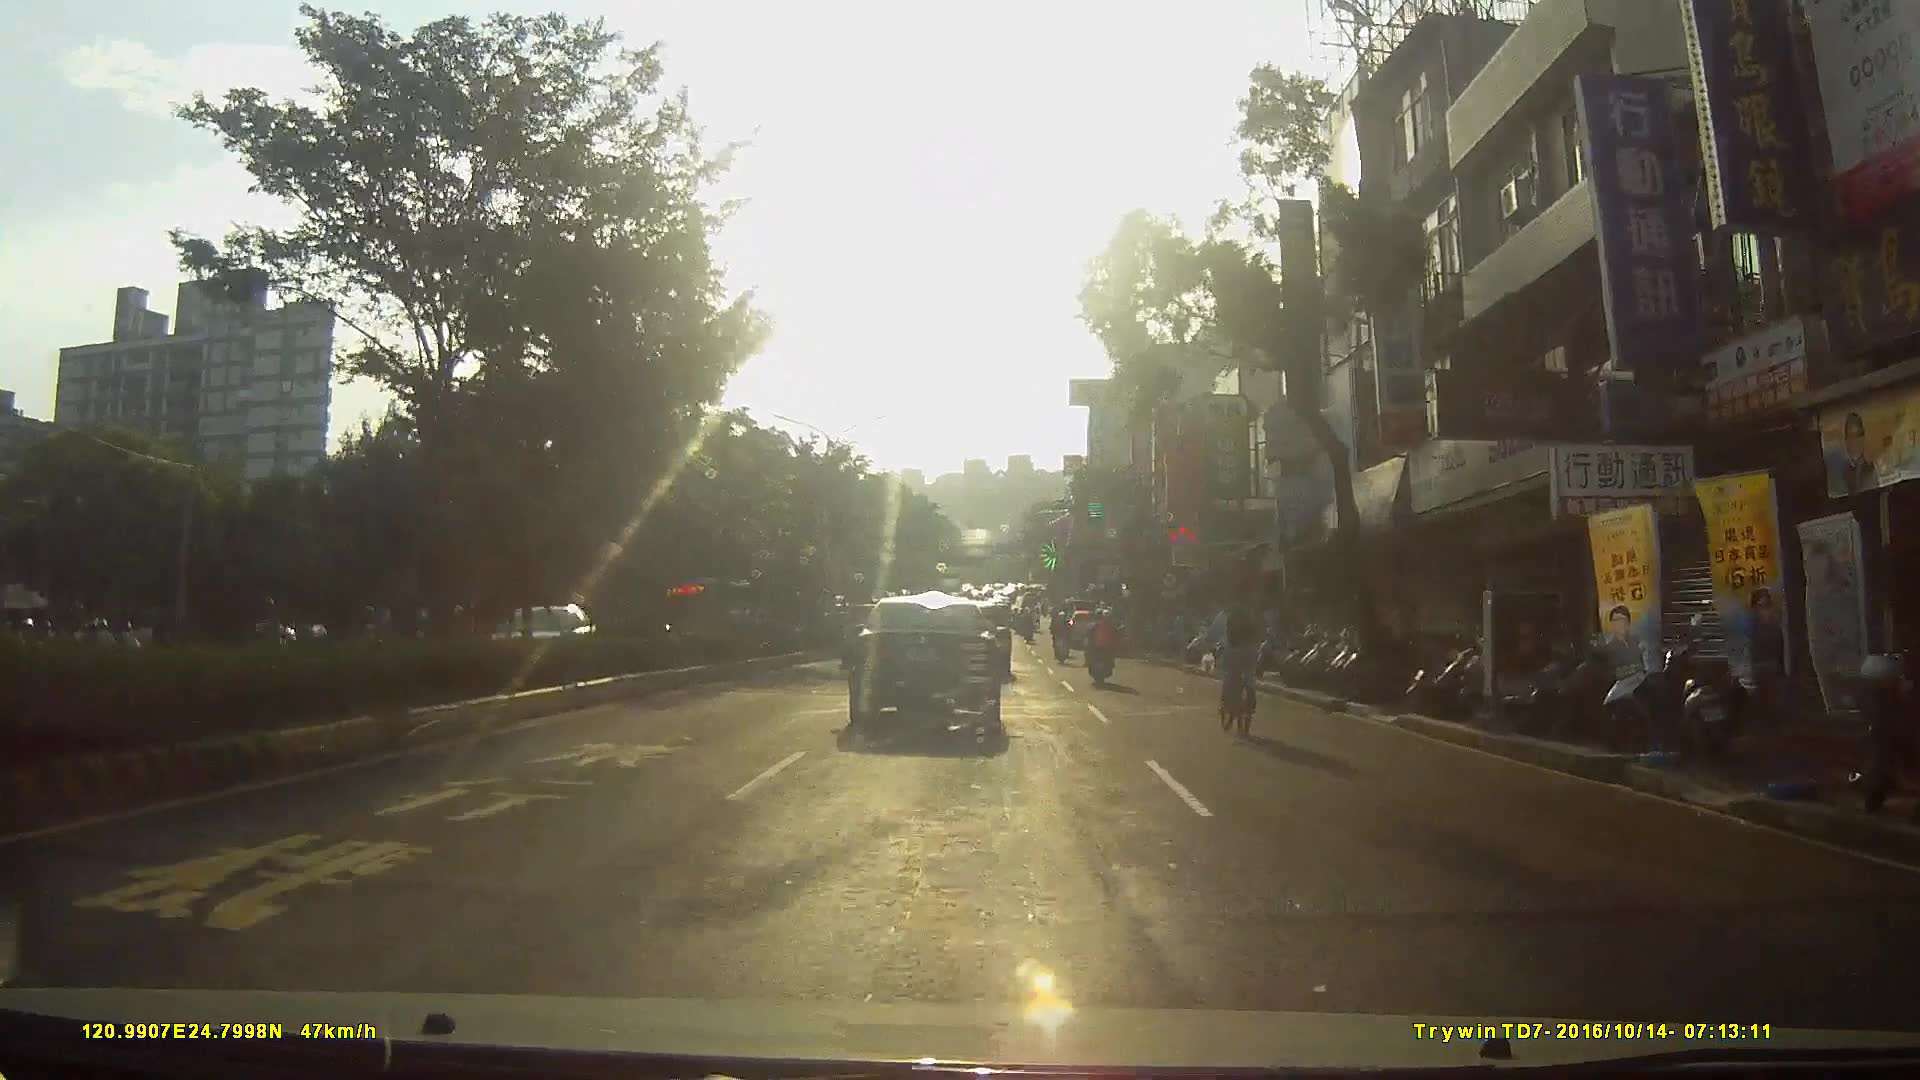rider: (1209, 585, 1278, 738), (237, 601, 303, 686), (1086, 612, 1119, 689), (1049, 611, 1075, 667)
vehicle: (849, 605, 1018, 754), (488, 609, 617, 687)
